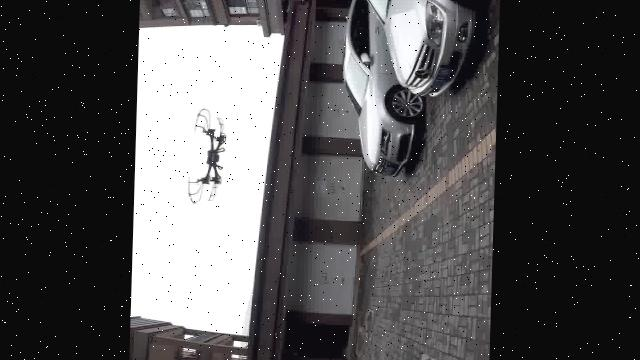drone: (182, 104, 232, 216)
